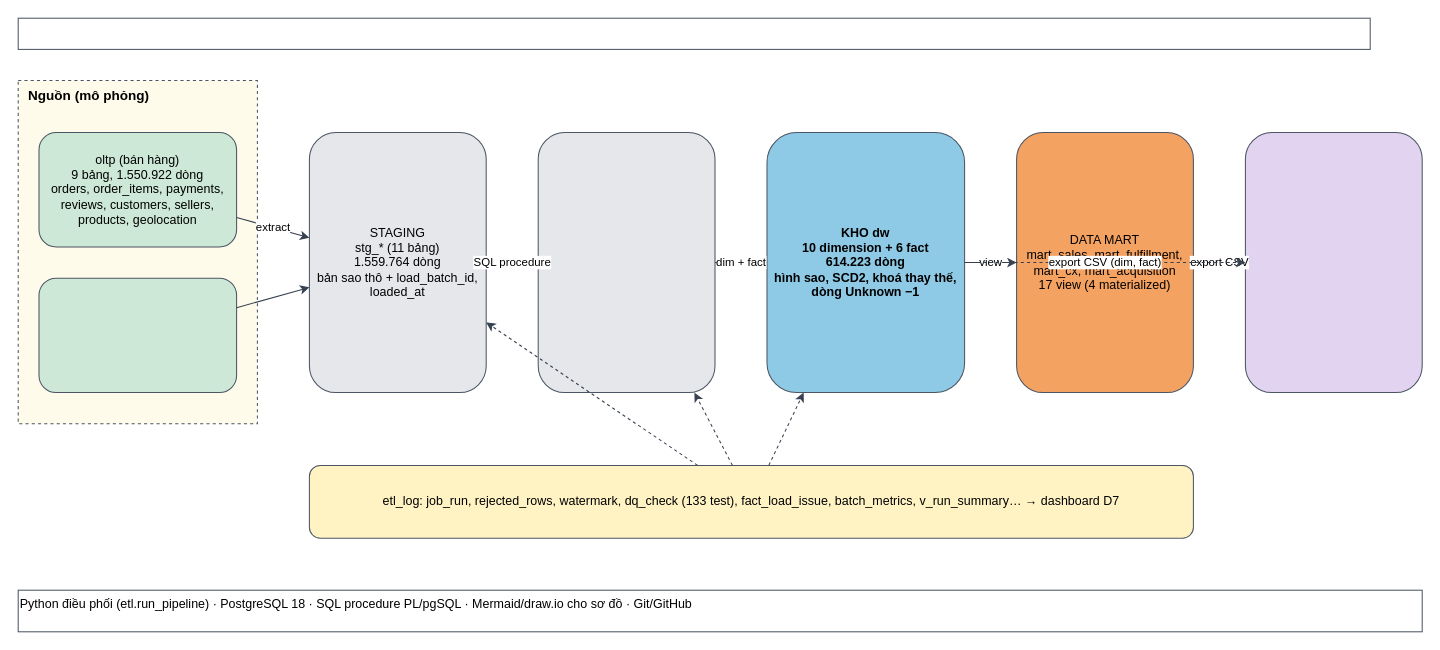
Some shapes in this 1440 by 650 pixel diagram are drawn without their labels. Each missing label, with the centre of its shape:
crm (marketing) 2 bảng, 8.842 dòng mql, closed_deals: point (137, 335)
ODS 18 bảng, 678.183 dòng làm sạch, chuẩn hoá, dq_flags dòng lỗi → rejected_rows: point (626, 262)
Olist DW & BI – kiến trúc các lớp (số dòng ở trạng thái cuối): point (693, 33)
POWER BI 37 file CSV (Import) mô hình quan hệ + DAX 7 dashboard Publish to web: point (1333, 262)
